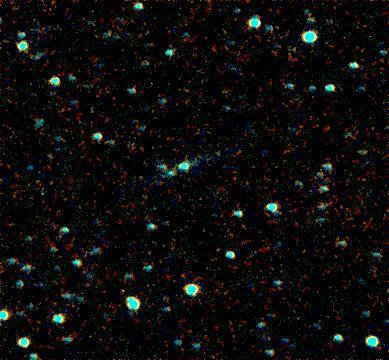star: (202, 141, 232, 171)
